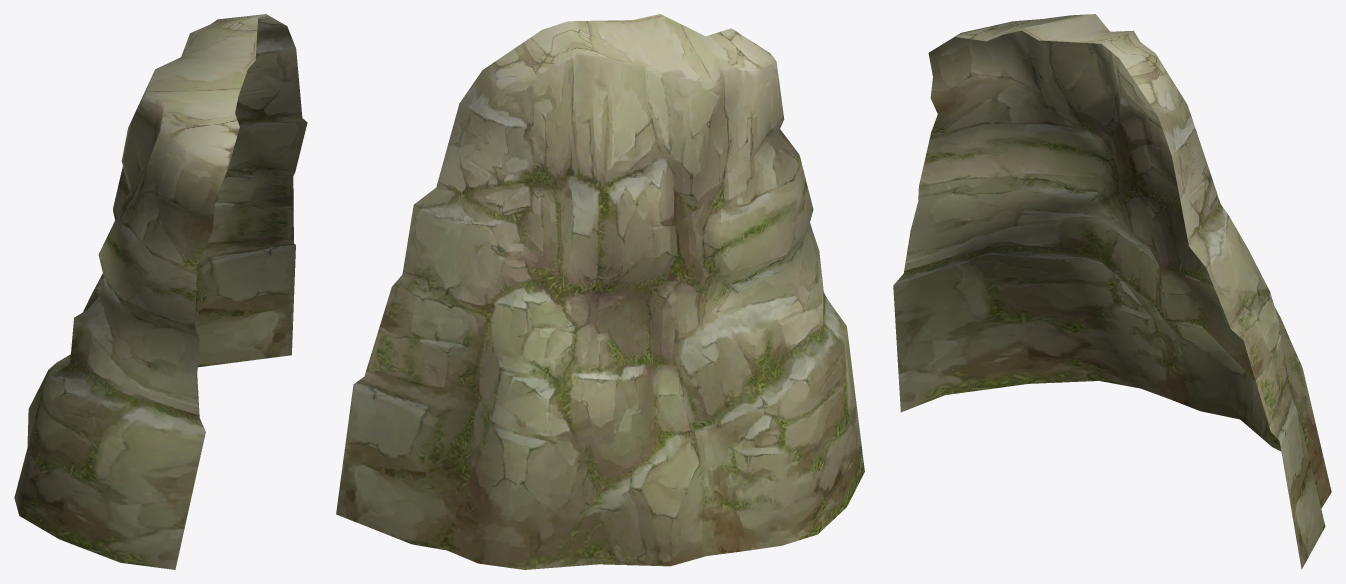
File: zhsly_06.FBX
3 views of the same model, side by side, from view 1: azimuth 30°, elevation 25°; view 2: azimuth 150°, elevation 25°; view 3: azimuth 270°, elevation 25° (orthographic). The views are drawn at different scales.
Visible parts, largest first — view 1: zhsly_06; view 2: zhsly_06; view 3: zhsly_06.
Part boxes in pixels (x1,y1,x2,y2): zhsly_06: (14,14,307,569); zhsly_06: (336,14,864,569); zhsly_06: (893,14,1331,569).
Bounding box in the file's own units: 642 × 629 × 728.
